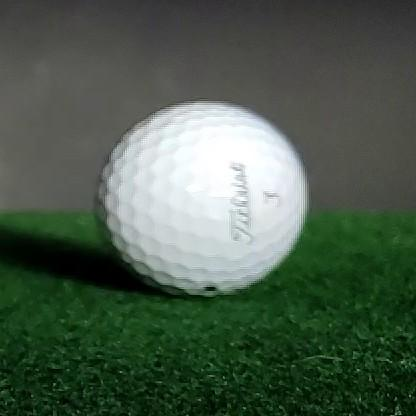golfball: (96, 101, 307, 297)
